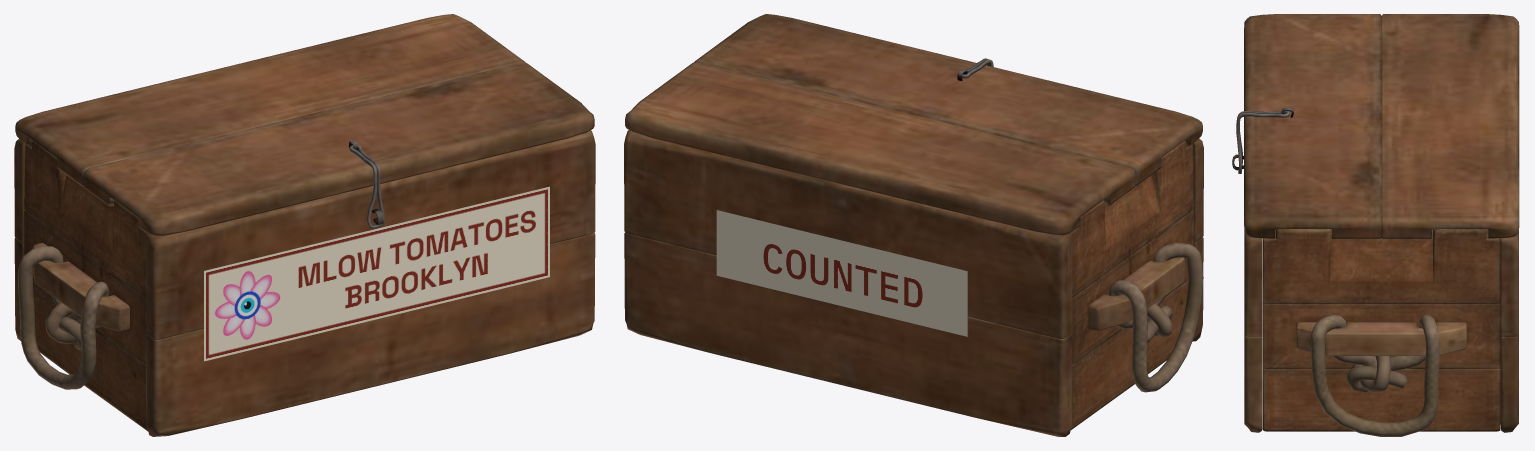
Rendered from nyb_copa_crate.glb.
3 views of the same model, side by side, from view 1: azimuth 30°, elevation 25°; view 2: azimuth 150°, elevation 25°; view 3: azimuth 270°, elevation 25° (orthographic). The views are drawn at different scales.
Visible parts, largest first — view 1: wooden_crate_01_lid, stk_lbl_6c06c320e2.png; view 2: wooden_crate_01_lid, stk_lbl_6095825100.png; view 3: wooden_crate_01_lid.
Part boxes in pixels (bbox=[...]): wooden_crate_01_lid: bbox=[14, 14, 595, 436]; stk_lbl_6c06c320e2.png: bbox=[204, 186, 549, 361]; wooden_crate_01_lid: bbox=[624, 14, 1203, 436]; stk_lbl_6095825100.png: bbox=[716, 210, 967, 336]; wooden_crate_01_lid: bbox=[1232, 14, 1519, 436].
Bounding box in the file's own units: 0.8253 × 0.3496 × 0.4108.
3 materials, 3 textured.
